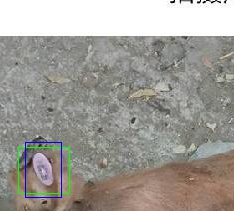text: (18, 147, 69, 193)
